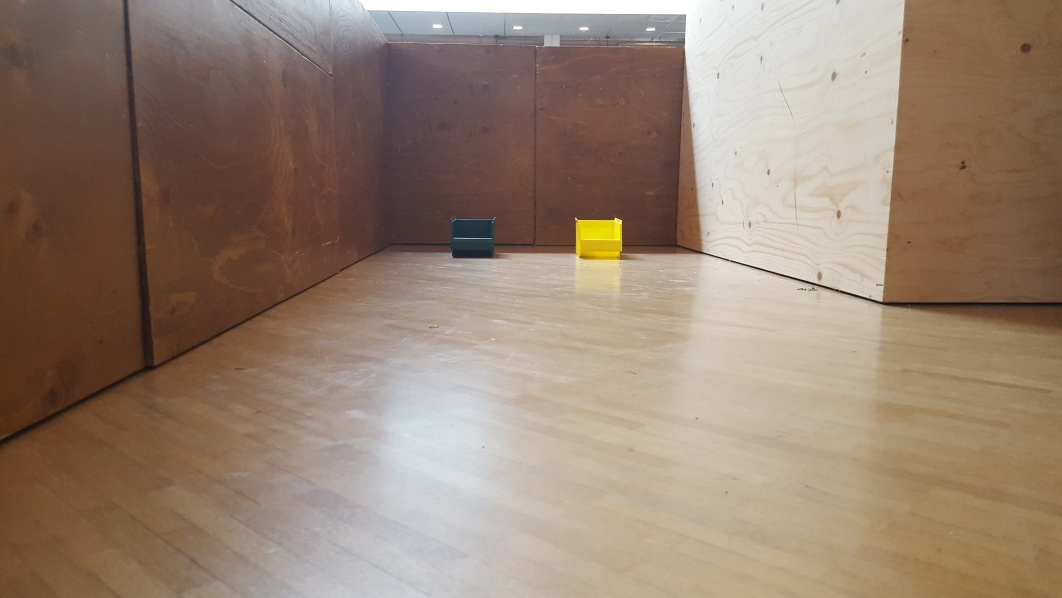tray: (566, 215, 627, 257), (447, 211, 497, 256)
